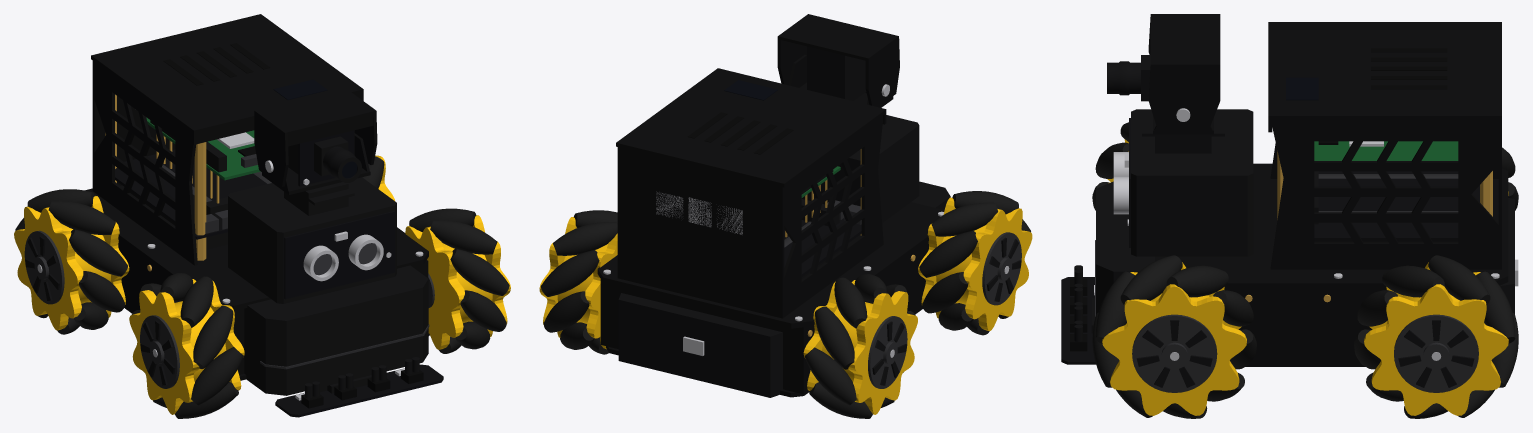
The model's file is Raspbot_V2.glb.
3 views of the same model, side by side, from view 1: azimuth 30°, elevation 25°; view 2: azimuth 150°, elevation 25°; view 3: azimuth 270°, elevation 25° (orthographic). The views are drawn at different scales.
Visible parts, largest first — view 1: Control_Case, Chassis, Ultrasonic_Sensor, Wheel_RL, Wheel_FL, Wheel_FR, Camera_Tilt, Line_Tracker, Camera_Pan, Wheel_RR; view 2: Control_Case, Chassis, Wheel_FL, Wheel_RL, Camera_Tilt, Wheel_RR, Ultrasonic_Sensor, Camera_Pan; view 3: Control_Case, Chassis, Wheel_RR, Wheel_FR, Ultrasonic_Sensor, Camera_Tilt, Line_Tracker, Camera_Pan, Wheel_FL, Wheel_RL.
Part boxes in pixels (<box>): Control_Case: <box>91,14,363,265</box>; Chassis: <box>85,185,434,395</box>; Ultrasonic_Sensor: <box>228,177,396,303</box>; Wheel_RL: <box>14,189,129,334</box>; Wheel_FL: <box>129,273,244,418</box>; Wheel_FR: <box>405,208,510,353</box>; Camera_Tilt: <box>254,88,377,186</box>; Line_Tracker: <box>275,357,443,417</box>; Camera_Pan: <box>262,133,370,215</box>; Wheel_RR: <box>362,155,394,200</box>; Control_Case: <box>616,68,886,318</box>; Chassis: <box>597,181,950,397</box>; Wheel_FL: <box>918,191,1032,335</box>; Wheel_RL: <box>803,274,917,418</box>; Camera_Tilt: <box>777,14,899,106</box>; Wheel_RR: <box>539,210,617,354</box>; Ultrasonic_Sensor: <box>801,115,919,222</box>; Camera_Pan: <box>788,54,893,107</box>; Control_Case: <box>1268,22,1501,269</box>; Chassis: <box>1095,163,1518,366</box>; Wheel_RR: <box>1354,255,1518,418</box>; Wheel_FR: <box>1092,255,1256,418</box>; Ultrasonic_Sensor: <box>1113,109,1253,256</box>; Camera_Tilt: <box>1107,14,1220,128</box>; Line_Tracker: <box>1061,265,1095,364</box>; Camera_Pan: <box>1142,111,1224,153</box>; Wheel_FL: <box>1092,122,1128,210</box>; Wheel_RL: <box>1502,147,1518,210</box>.
Size of the model in its own units: 0.1986 by 0.152 by 0.2097.
